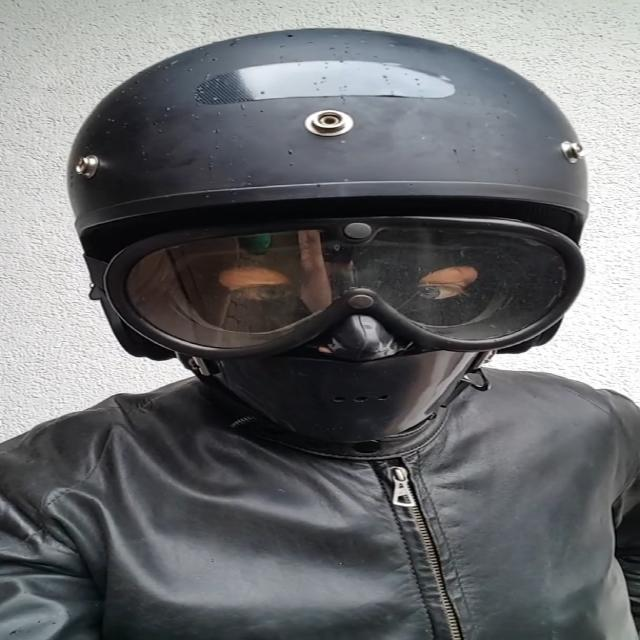Helmet_Wearer: (51, 21, 595, 474)
Jacket_Wearer: (5, 326, 640, 640)
Person: (0, 28, 640, 628)
